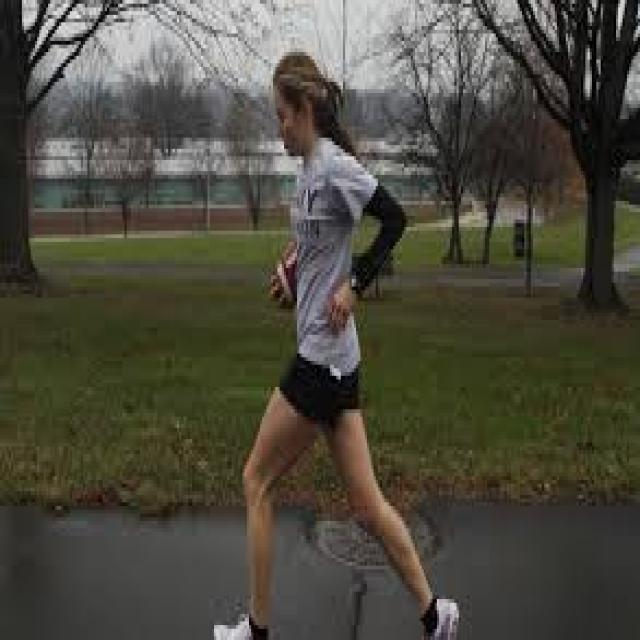running: (209, 53, 463, 640)
